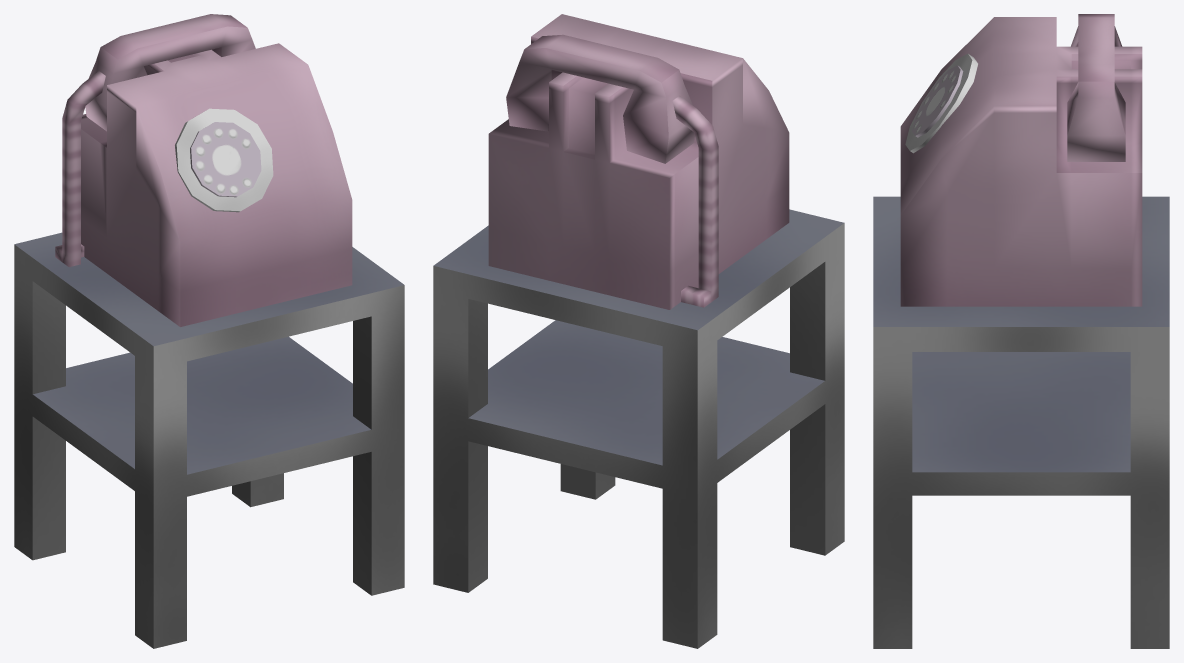
File: BgMD_Phone_01.fbx
3 renders of one model, left to right at view 1: azimuth 30°, elevation 25°; view 2: azimuth 150°, elevation 25°; view 3: azimuth 270°, elevation 25°, orthographic. The views are drawn at different scales.
Parts seen in each view (by area): view 1: pCube6; view 2: pCube6; view 3: pCube6.
Boxes of the visible parts, box(x1,y1,x2,y2) form: pCube6: box(14, 14, 404, 648); pCube6: box(433, 14, 844, 648); pCube6: box(873, 14, 1169, 648).
Size of the model in its own units: 48.01 by 93.2 by 46.17.
1 material, 1 textured.
